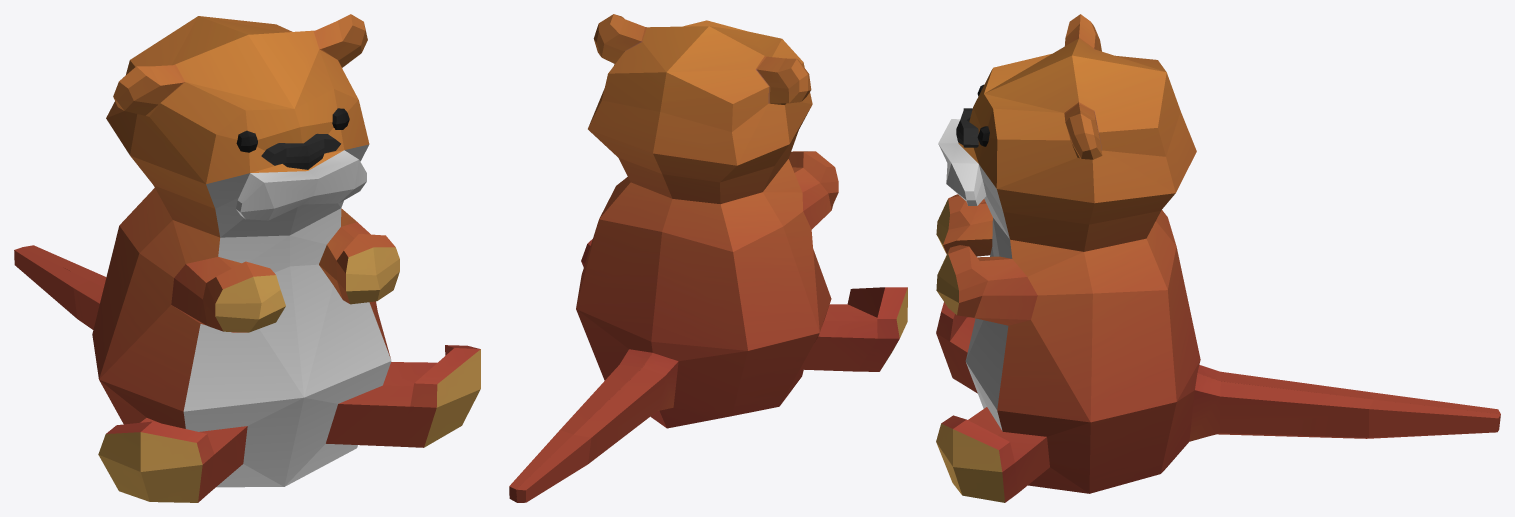
The model's file is sp_teddy_otter_a.fbx.
3 views of the same model, side by side, from view 1: azimuth 30°, elevation 25°; view 2: azimuth 150°, elevation 25°; view 3: azimuth 270°, elevation 25° (orthographic). The views are drawn at different scales.
Visible parts, largest first — view 1: sp_teddy_otter_a; view 2: sp_teddy_otter_a; view 3: sp_teddy_otter_a.
Part boxes in pixels (x1,y1,x2,y2): sp_teddy_otter_a: (14,14,480,502); sp_teddy_otter_a: (509,14,907,502); sp_teddy_otter_a: (936,14,1500,502).
Bounding box in the file's own units: 40.35 × 45.25 × 55.66.
